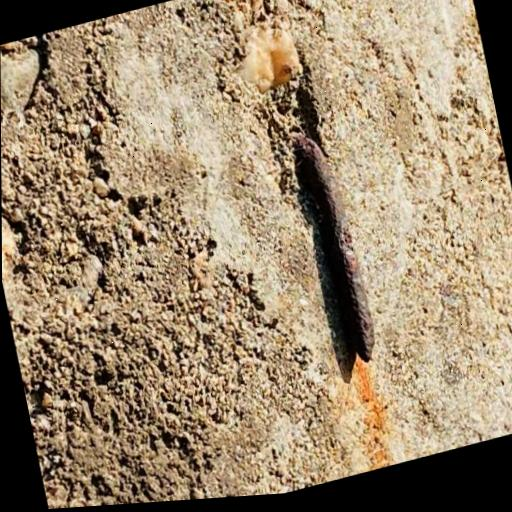exposed_rebar: (294, 133, 375, 362)
